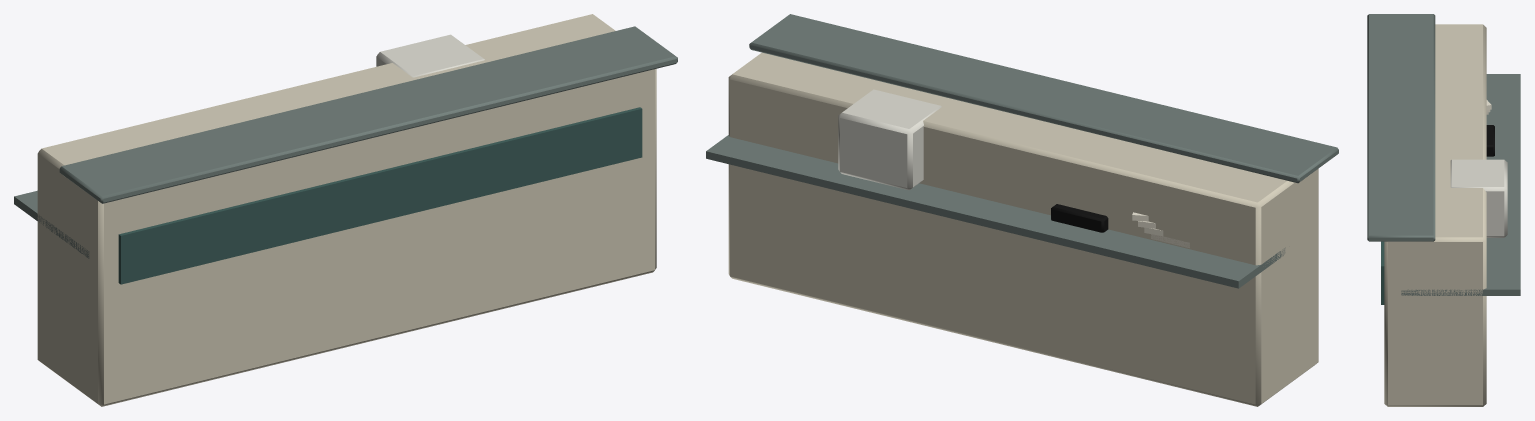
The model's file is reception_desk.glb.
3 renders of one model, left to right at view 1: azimuth 30°, elevation 25°; view 2: azimuth 150°, elevation 25°; view 3: azimuth 270°, elevation 25°, orthographic. The views are drawn at different scales.
Visible parts, largest first — view 1: ReceptionDesk; view 2: ReceptionDesk; view 3: ReceptionDesk.
Boxes of the visible parts, x1,y1,x2,y2 form: ReceptionDesk: (14,14,677,406); ReceptionDesk: (706,14,1338,406); ReceptionDesk: (1367,14,1520,406).
Bounding box in the file's own units: 3.1 × 1.14 × 0.9.
